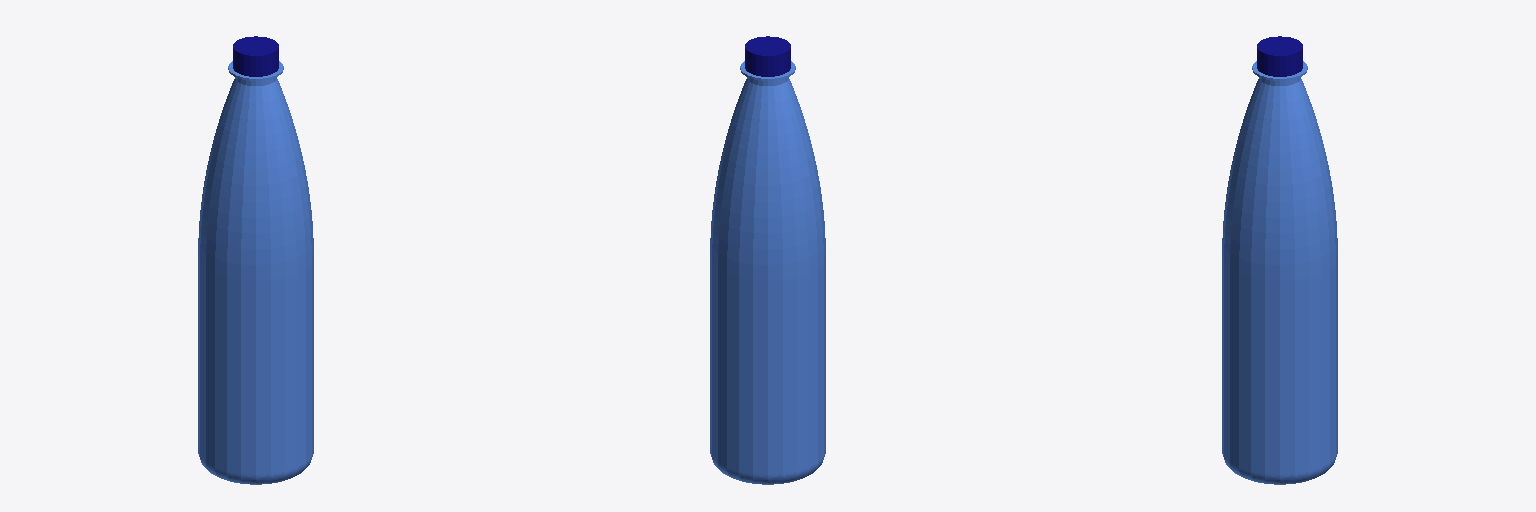
Rendered from plastico.obj.
The picture shows the model from 3 angles: view 1: azimuth 30°, elevation 25°; view 2: azimuth 150°, elevation 25°; view 3: azimuth 270°, elevation 25°; orthographic projection.
Parts seen in each view (by area): view 1: Mesh1 Model; view 2: Mesh1 Model; view 3: Mesh1 Model.
Boxes of the visible parts, x1=… form: Mesh1 Model: x1=198, y1=36, x2=313, y2=484; Mesh1 Model: x1=710, y1=36, x2=825, y2=484; Mesh1 Model: x1=1222, y1=36, x2=1337, y2=484.
Bounding box in the file's own units: 0.05 × 0.1999 × 0.05.